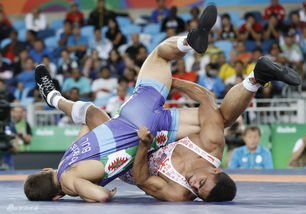fall: (26, 7, 278, 204)
